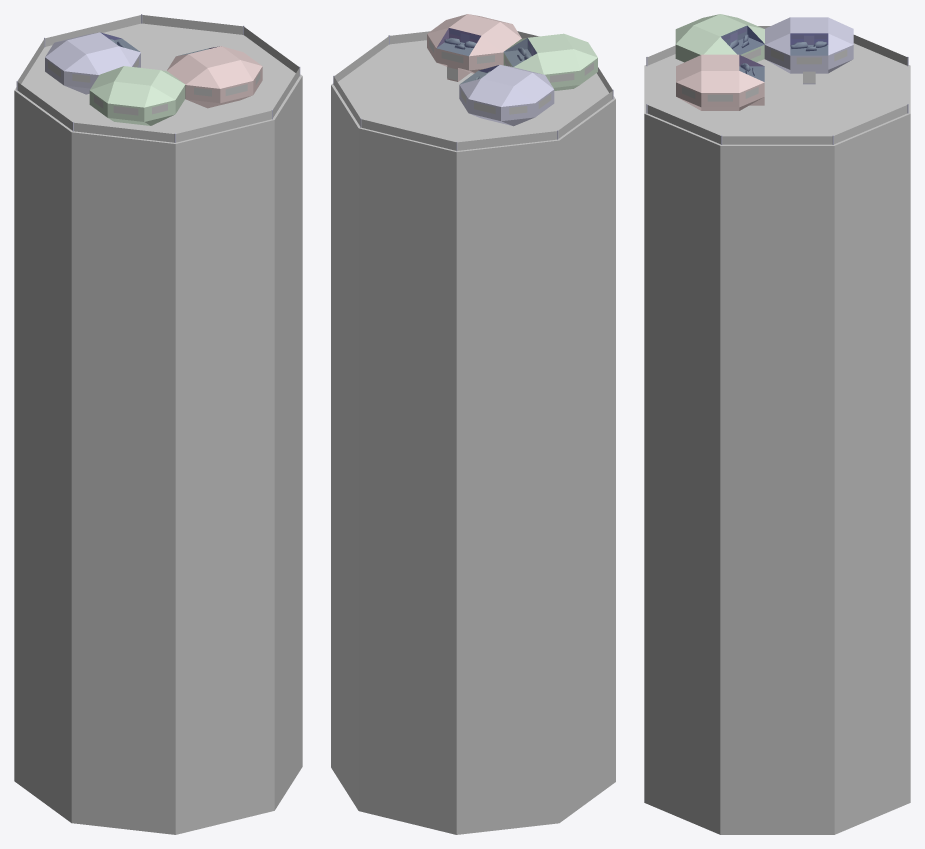
Rendered from combo1_lod3.dae.
3 views of the same model, side by side, from view 1: azimuth 30°, elevation 25°; view 2: azimuth 150°, elevation 25°; view 3: azimuth 270°, elevation 25° (orthographic).
Parts seen in each view (by area): view 1: combo1_lod3; view 2: combo1_lod3; view 3: combo1_lod3.
Part boxes in pixels (box(x1,y1,x2,y2)): combo1_lod3: box(14, 14, 302, 834); combo1_lod3: box(331, 14, 615, 834); combo1_lod3: box(644, 14, 910, 834).
Bounding box in the file's own units: 42 × 42 × 127.
